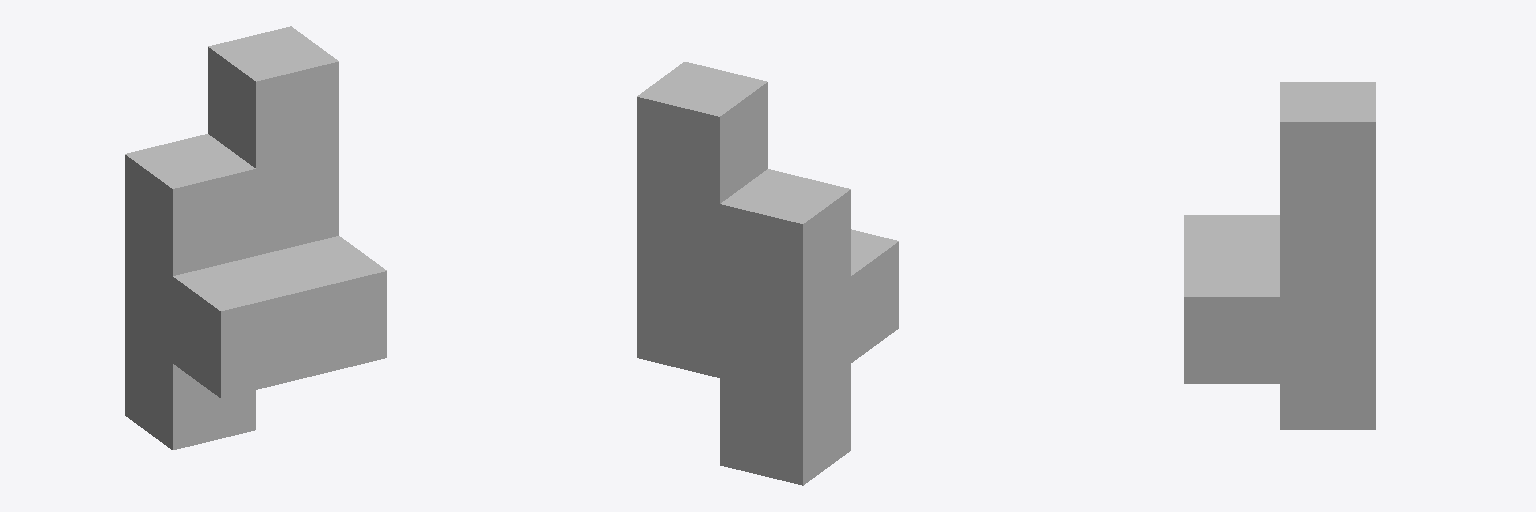
The model's file is FireProjectile.obj.
3 views of the same model, side by side, from view 1: azimuth 30°, elevation 25°; view 2: azimuth 150°, elevation 25°; view 3: azimuth 270°, elevation 25° (orthographic).
Parts seen in each view (by area): view 1: object 1; view 2: object 1; view 3: object 1.
Part boxes in pixels (x1,y1,x2,y2): object 1: (125,26,386,449); object 1: (637,62,898,485); object 1: (1184,82,1375,429).
Size of the model in its own units: 0.2 by 0.4 by 0.2.